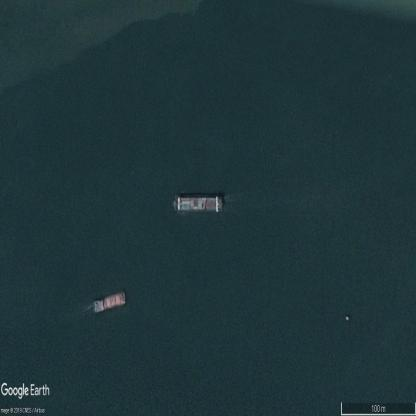ship: (173, 190, 226, 214), (92, 291, 125, 319)
